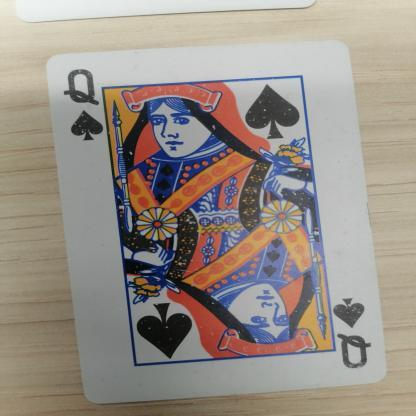QS: (58, 63, 116, 142), (333, 294, 390, 370)
